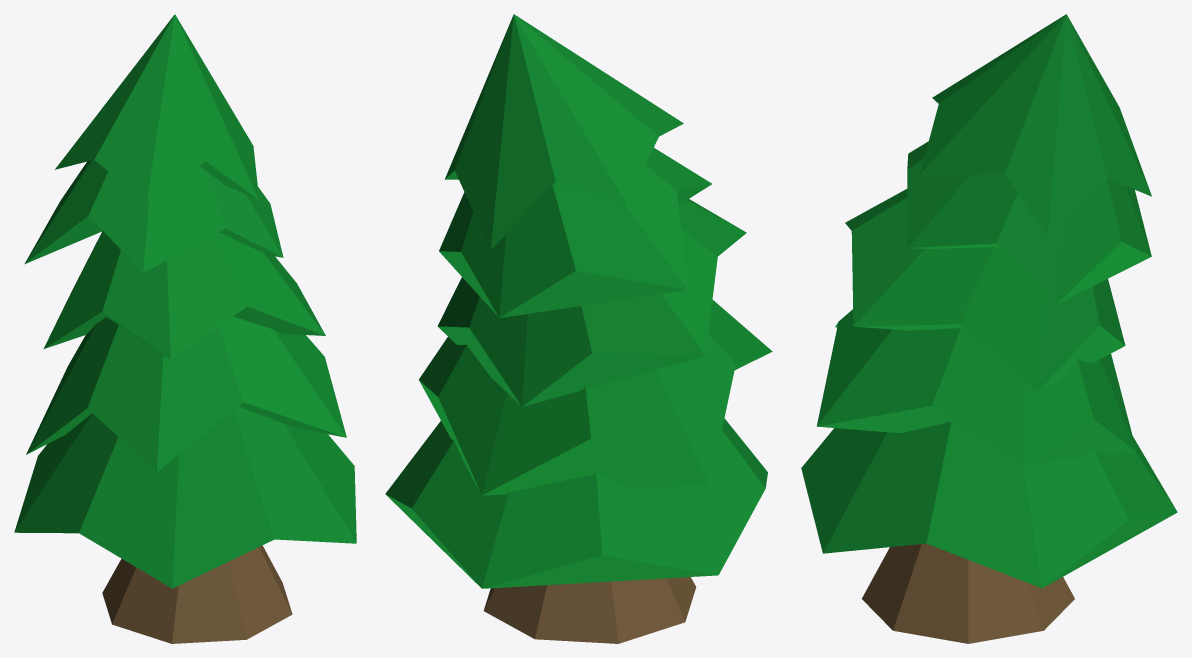
File: PineTree_8.fbx
The picture shows the model from 3 angles, left to right: view 1: azimuth 30°, elevation 25°; view 2: azimuth 150°, elevation 25°; view 3: azimuth 270°, elevation 25°; orthographic projection. The views are drawn at different scales.
Visible parts, largest first — view 1: Cone.001, Cone.002, Cone.003, Cone.004, Cone, Cylinder; view 2: Cone.001, Cone.002, Cone.004, Cone, Cone.003, Cylinder; view 3: Cone.001, Cone.002, Cone.004, Cone.003, Cone, Cylinder.
Boxes of the visible parts, x1=… form: Cone.001: x1=14, y1=406, x2=356, y2=588; Cone.002: x1=26, y1=316, x2=346, y2=471; Cone.003: x1=43, y1=231, x2=325, y2=359; Cone.004: x1=55, y1=14, x2=259, y2=202; Cone: x1=24, y1=160, x2=283, y2=272; Cylinder: x1=102, y1=545, x2=292, y2=643; Cone.001: x1=385, y1=418, x2=767, y2=588; Cone.002: x1=419, y1=299, x2=772, y2=495; Cone.004: x1=444, y1=14, x2=683, y2=249; Cone: x1=439, y1=148, x2=711, y2=317; Cone.003: x1=437, y1=199, x2=746, y2=406; Cylinder: x1=483, y1=577, x2=696, y2=643; Cone.001: x1=801, y1=421, x2=1177, y2=588; Cone.002: x1=816, y1=309, x2=1136, y2=465; Cone.004: x1=919, y1=14, x2=1151, y2=236; Cone.003: x1=845, y1=189, x2=1125, y2=392; Cone: x1=907, y1=141, x2=1151, y2=304; Cylinder: x1=862, y1=543, x2=1074, y2=643.
Bounding box in the file's own units: 190 × 336 × 192.
